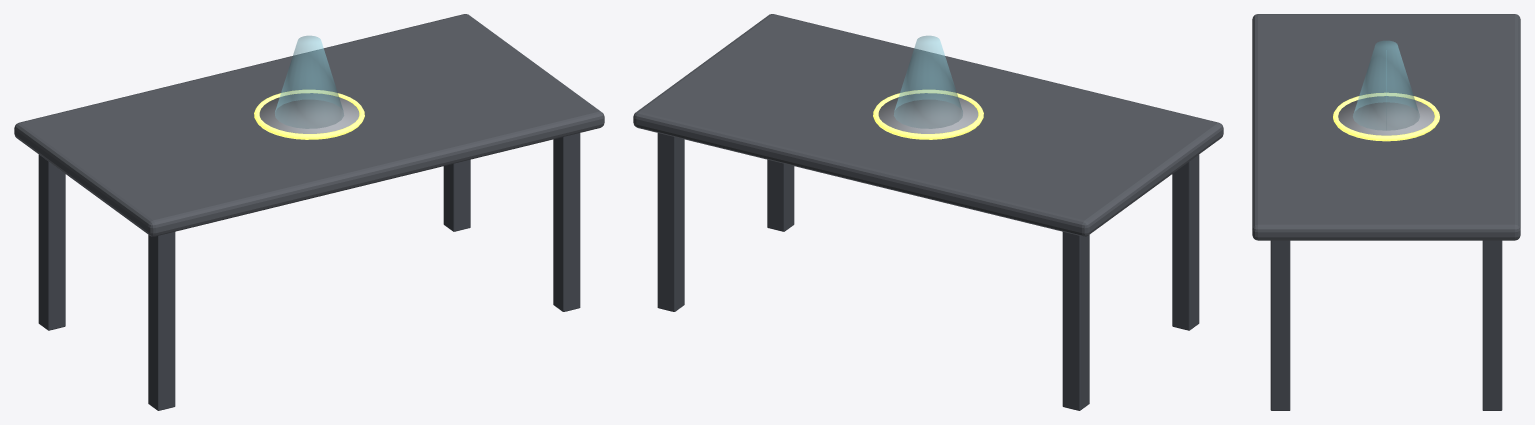
File: dining_table_holo_ring.glb
The picture shows the model from 3 angles, left to right: view 1: azimuth 30°, elevation 25°; view 2: azimuth 150°, elevation 25°; view 3: azimuth 270°, elevation 25°; orthographic projection. The views are drawn at different scales.
Parts seen in each view (by area): view 1: GD_dining_table_holo_ring__m0, GD_dining_table_holo_ring__m1, GD_dining_table_holo_ring__m4, GD_dining_table_holo_ring__m2, GD_dining_table_holo_ring__m3; view 2: GD_dining_table_holo_ring__m0, GD_dining_table_holo_ring__m1, GD_dining_table_holo_ring__m4, GD_dining_table_holo_ring__m2, GD_dining_table_holo_ring__m3; view 3: GD_dining_table_holo_ring__m0, GD_dining_table_holo_ring__m1, GD_dining_table_holo_ring__m4, GD_dining_table_holo_ring__m2, GD_dining_table_holo_ring__m3.
Boxes of the visible parts, x1,y1,x2,y2 form: GD_dining_table_holo_ring__m0: (14,14,604,236); GD_dining_table_holo_ring__m1: (38,133,580,410); GD_dining_table_holo_ring__m4: (275,35,343,128); GD_dining_table_holo_ring__m2: (259,93,359,133); GD_dining_table_holo_ring__m3: (254,89,364,139); GD_dining_table_holo_ring__m0: (633,14,1223,236); GD_dining_table_holo_ring__m1: (657,133,1199,410); GD_dining_table_holo_ring__m4: (894,35,962,128); GD_dining_table_holo_ring__m2: (878,93,978,133); GD_dining_table_holo_ring__m3: (873,89,983,139); GD_dining_table_holo_ring__m0: (1252,14,1520,240); GD_dining_table_holo_ring__m1: (1270,240,1502,410); GD_dining_table_holo_ring__m4: (1353,40,1419,130); GD_dining_table_holo_ring__m2: (1338,96,1434,135); GD_dining_table_holo_ring__m3: (1333,92,1439,141).
Bounding box in the file's own units: 1.8 × 1.04 × 0.95.
